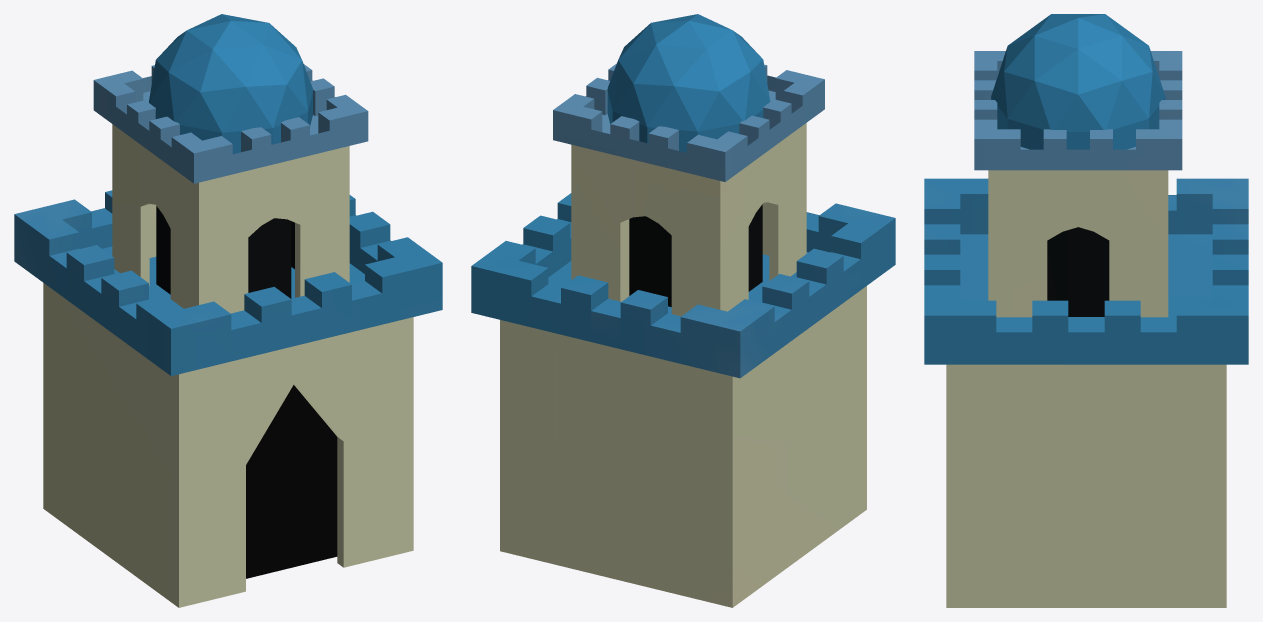
The model's file is ambientação teste.fbx.
3 renders of one model, left to right at view 1: azimuth 30°, elevation 25°; view 2: azimuth 150°, elevation 25°; view 3: azimuth 270°, elevation 25°, orthographic. The views are drawn at different scales.
Parts seen in each view (by area): view 1: Cube; view 2: Cube; view 3: Cube.
Part boxes in pixels (x1,y1,x2,y2): Cube: [14, 14, 442, 607]; Cube: [471, 14, 895, 607]; Cube: [924, 14, 1248, 607].
Bounding box in the file's own units: 137 × 247 × 137.
